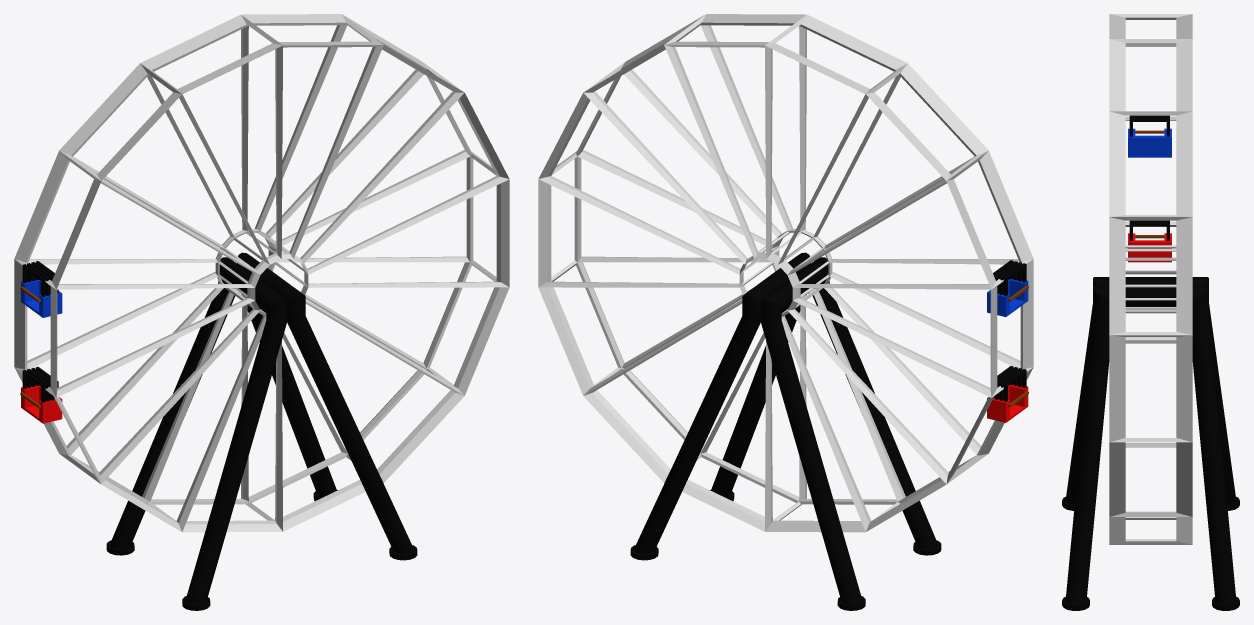
Rendered from fairgroundwheel_1.fbx.
3 views of the same model, side by side, from view 1: azimuth 30°, elevation 25°; view 2: azimuth 150°, elevation 25°; view 3: azimuth 270°, elevation 25° (orthographic).
Parts seen in each view (by area): view 1: fairgroundwheel, fairgroundwheel_1; view 2: fairgroundwheel, fairgroundwheel_1; view 3: fairgroundwheel, fairgroundwheel_1.
Part boxes in pixels (x1=…): fairgroundwheel: x1=14, y1=14, x2=509, y2=532; fairgroundwheel_1: x1=106, y1=252, x2=417, y2=610; fairgroundwheel: x1=538, y1=14, x2=1033, y2=532; fairgroundwheel_1: x1=630, y1=252, x2=941, y2=610; fairgroundwheel: x1=1109, y1=14, x2=1192, y2=544; fairgroundwheel_1: x1=1062, y1=277, x2=1239, y2=610.
Size of the model in its own units: 7906 by 8578 by 2676.
